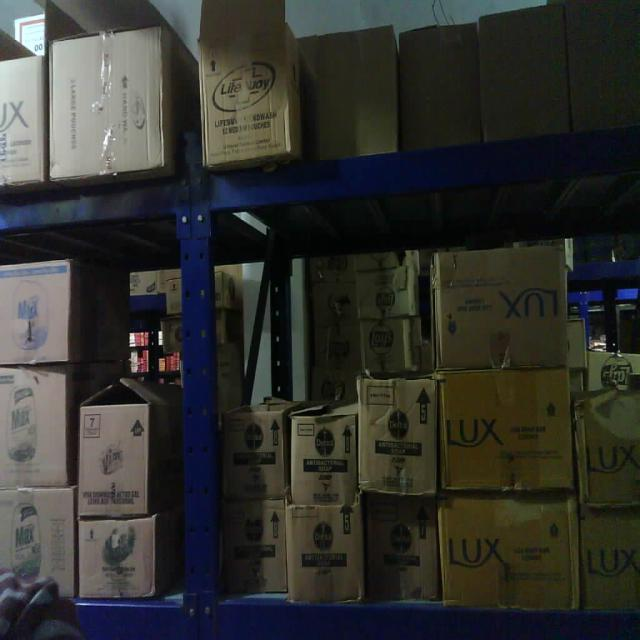box: (436, 491, 584, 613), (437, 370, 576, 492), (434, 248, 570, 372), (45, 32, 168, 168), (199, 0, 294, 163), (475, 2, 575, 139), (310, 25, 401, 159), (396, 21, 486, 147), (360, 373, 440, 496), (0, 364, 73, 490), (0, 482, 77, 600), (79, 398, 154, 517), (0, 253, 75, 370), (365, 498, 441, 606), (288, 503, 364, 606), (287, 408, 361, 508), (76, 517, 158, 600), (220, 408, 289, 504), (223, 501, 290, 598), (0, 55, 47, 186)
